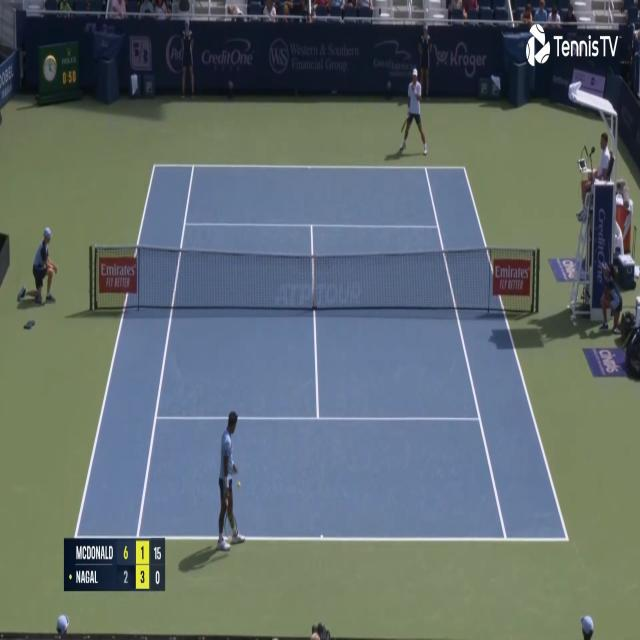tennis-player: (212, 406, 245, 559), (398, 66, 428, 158)
